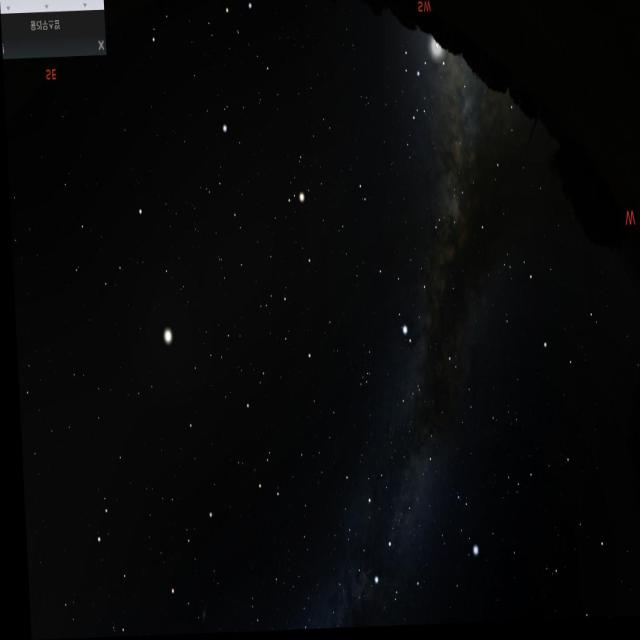aquila: (370, 205, 460, 357)
cygnus: (358, 450, 437, 606)
lyra: (444, 476, 479, 571)
moon: (424, 24, 451, 81)
